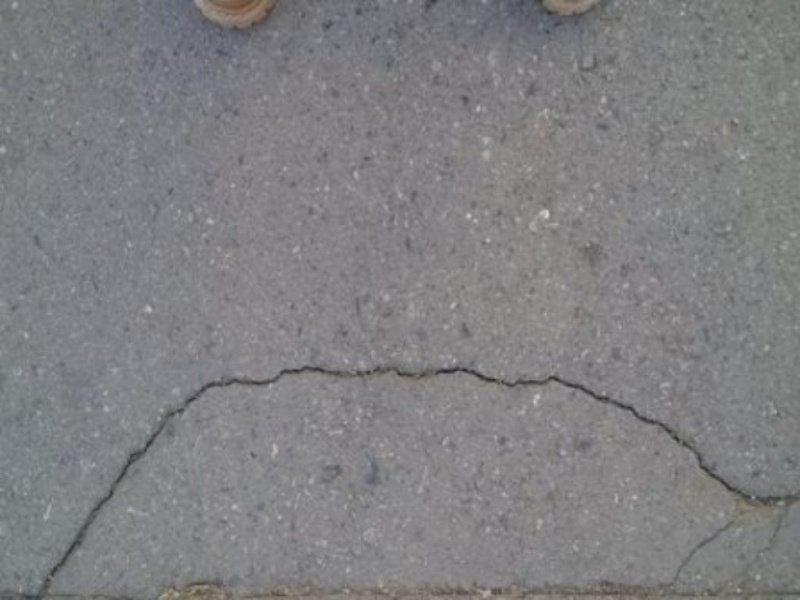crack: (18, 355, 792, 596)
